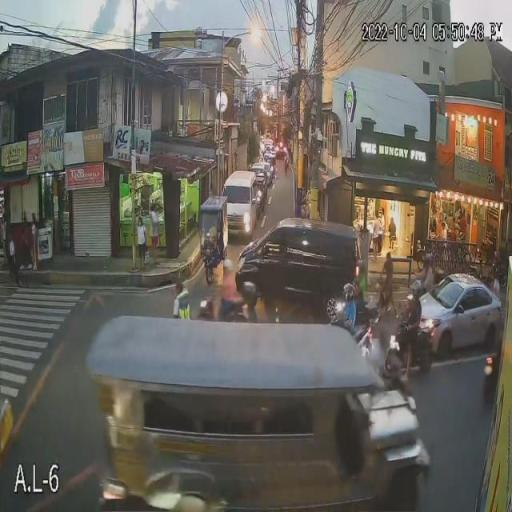helmet: (241, 281, 261, 307), (343, 282, 362, 300), (410, 280, 424, 301)
motorcycle: (381, 327, 444, 375), (355, 324, 376, 361)
rider: (404, 298, 423, 380), (340, 303, 359, 332), (236, 307, 258, 322)
